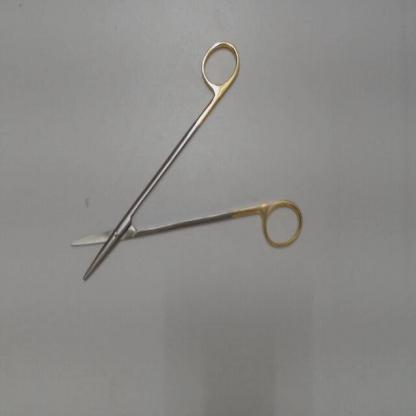7 Metzenbaum Scissors: (65, 34, 306, 288)
